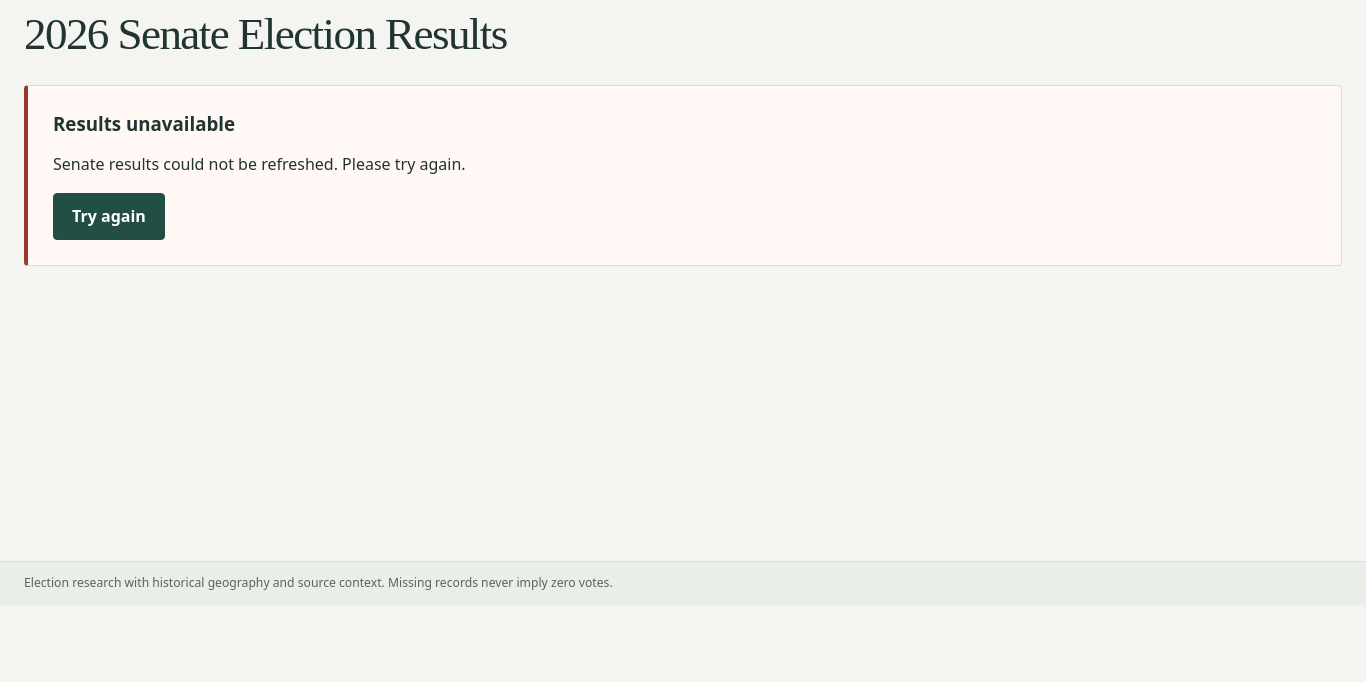
Scenario: 2026 Senate results › shows explicit API failure and retries
expect the heading "Results unavailable" is shown: met, box [53,111,235,136]
Click the button "Try again": (109, 216) [53,193,165,240]
(page scrolled)
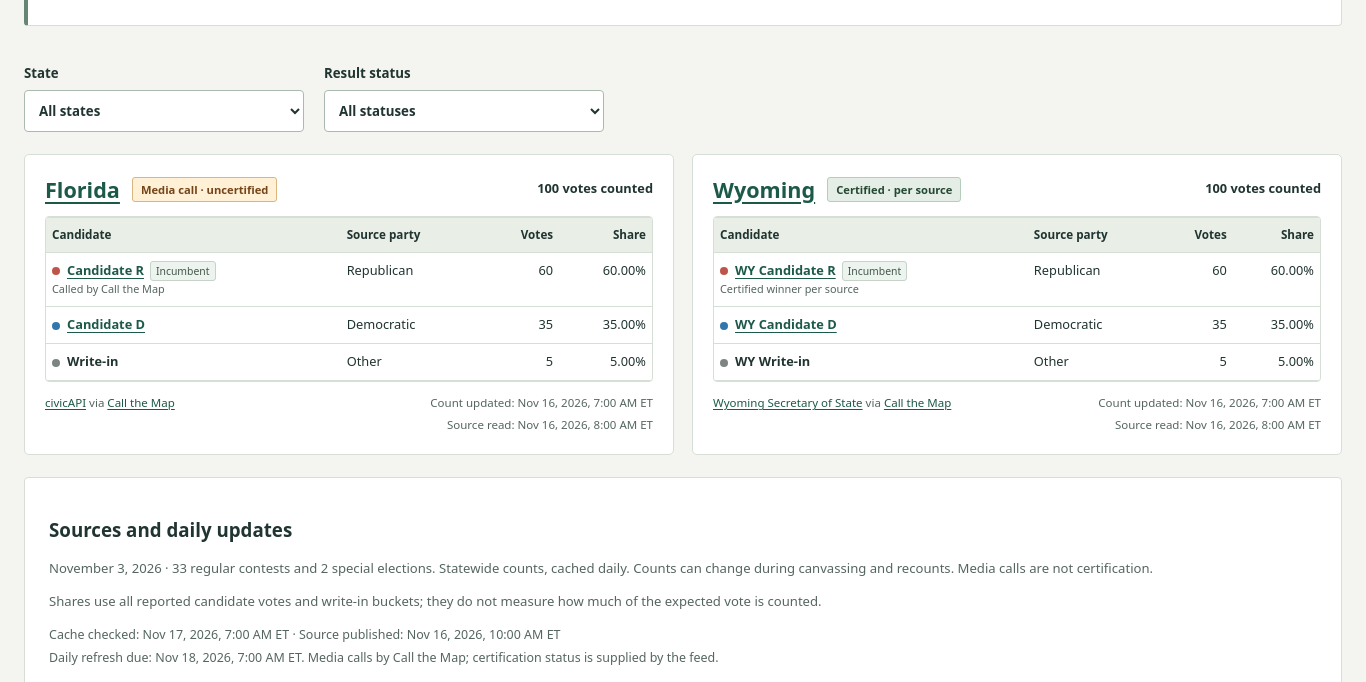
expect the element "Florida" is shown: met, box [24,154,674,455]
